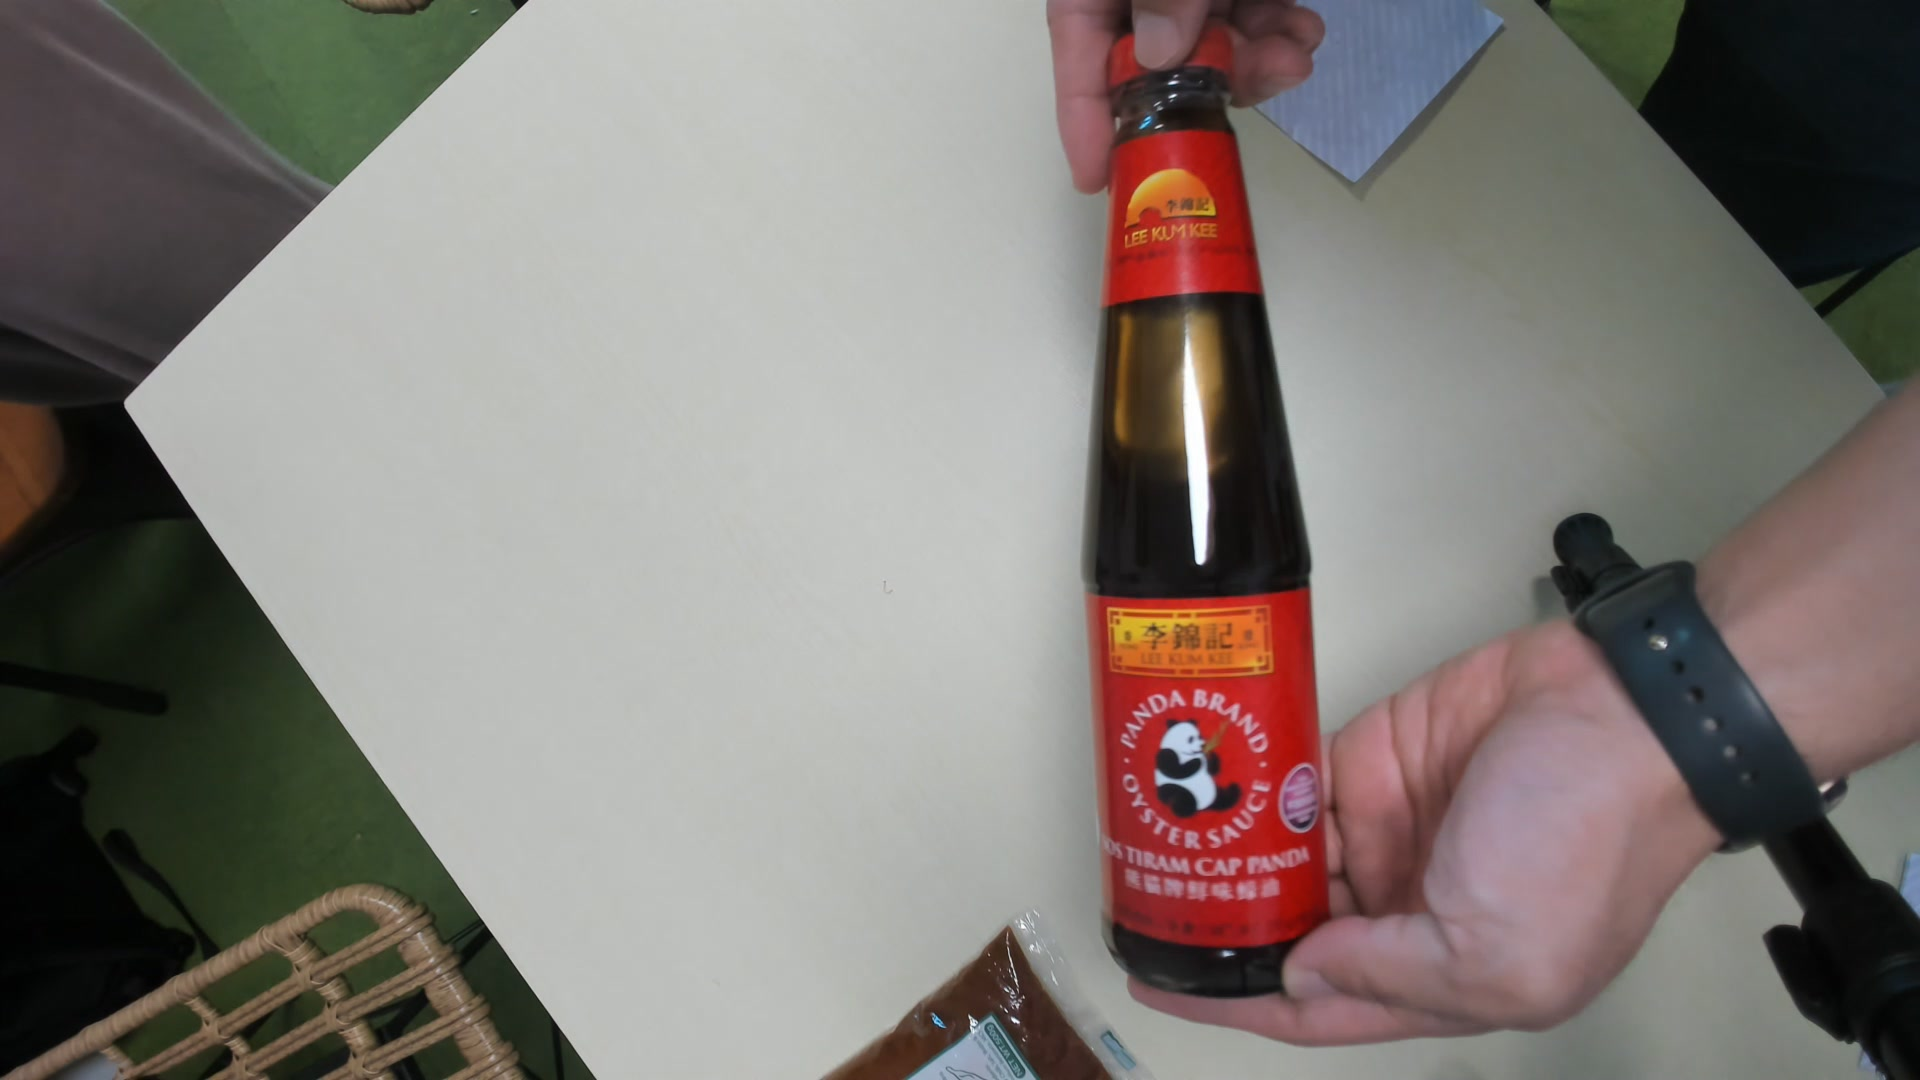OtherSauceDressingSoupbasePaste_500-599g_Halal_NonHealthy: (1091, 33, 1335, 992)
